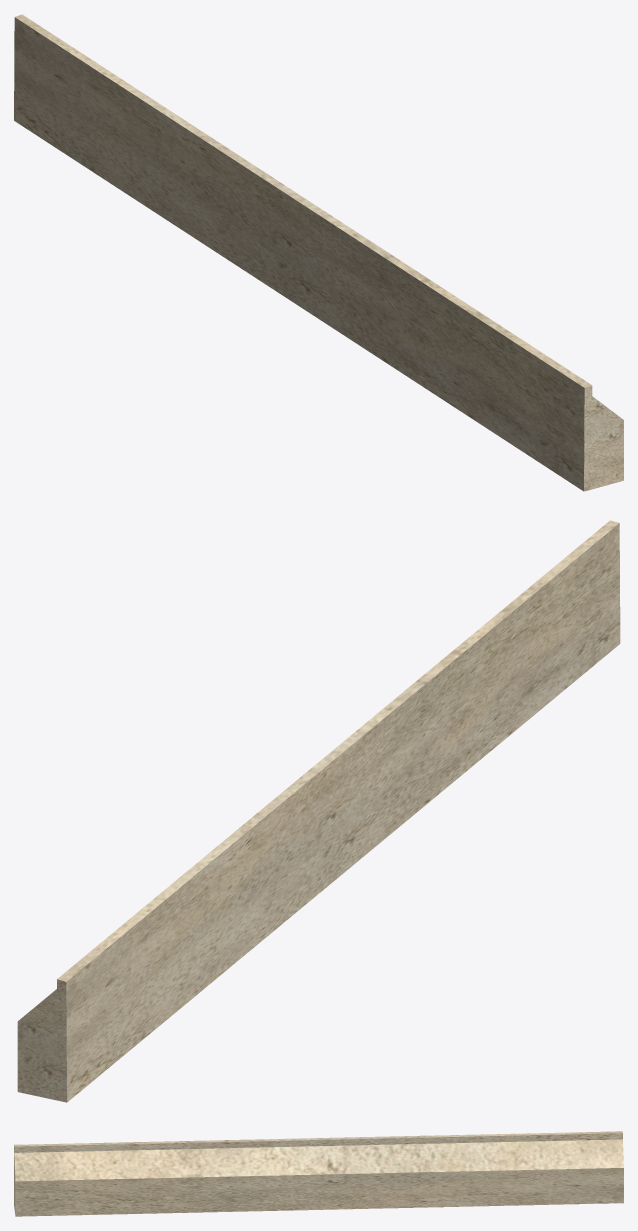
File: concrete_18.fbx
3 renders of one model, top to bottom at view 1: azimuth 30°, elevation 25°; view 2: azimuth 150°, elevation 25°; view 3: azimuth 270°, elevation 25°, orthographic. The views are drawn at different scales.
Visible parts, largest first — view 1: concrete_18; view 2: concrete_18; view 3: concrete_18.
Part boxes in pixels (bbox=[...]): concrete_18: bbox=[14, 14, 623, 491]; concrete_18: bbox=[17, 520, 620, 1102]; concrete_18: bbox=[14, 1131, 623, 1216].
Size of the model in its own units: 45.98 by 51.61 by 470.
